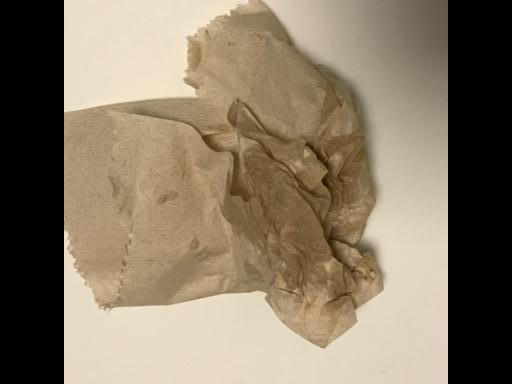trash: (68, 2, 387, 354)
